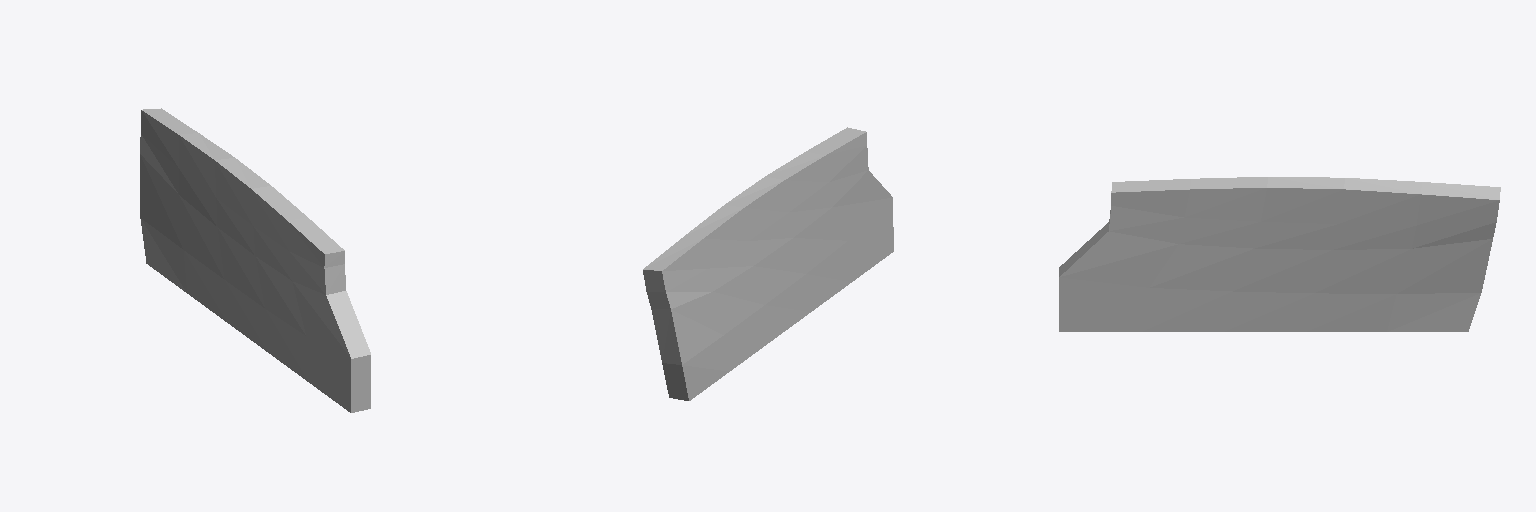
The picture shows the model from 3 angles: view 1: azimuth 30°, elevation 25°; view 2: azimuth 150°, elevation 25°; view 3: azimuth 270°, elevation 25°; orthographic projection.
Parts seen in each view (by area): view 1: pd; view 2: pd; view 3: pd.
Boxes of the visible parts, <box> form: pd: <box>140,108,370,412</box>; pd: <box>643,127,893,400</box>; pd: <box>1059,177,1500,331</box>.
Size of the model in its own units: 0.1947 by 0.8916 by 2.41.